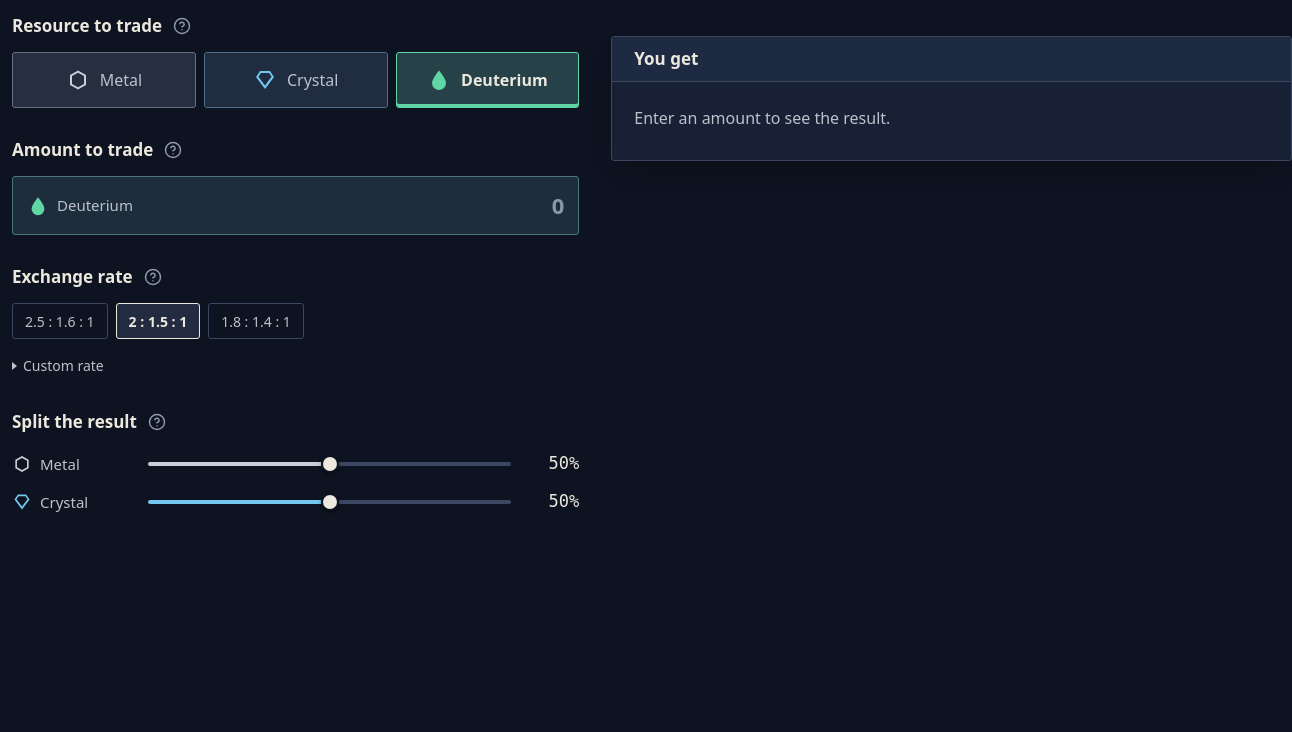
Test case: <Trader /> › clamps the split to 0-100 whatever the slider reports
The width and height of the screenshot is (1292, 732).
Set the slider named "Metal" to "150": (330, 464) [148,450,511,478]
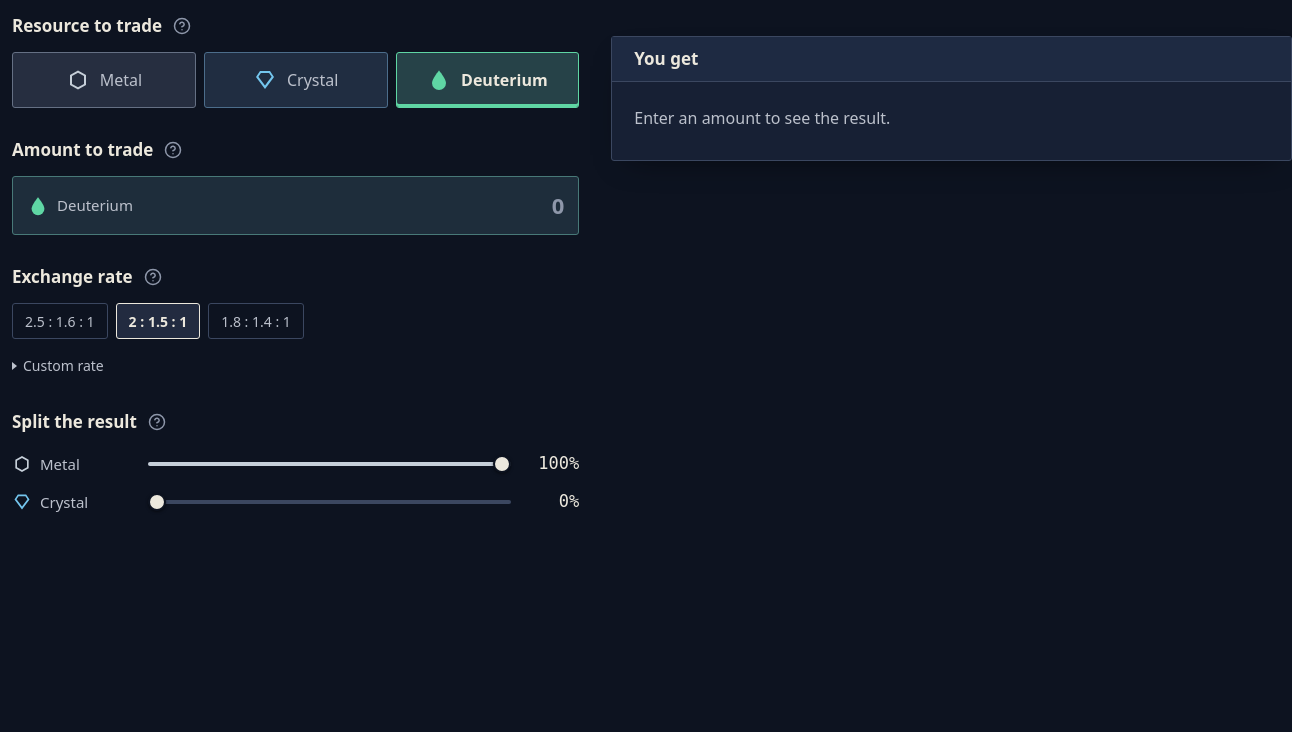
expect the slider named "Metal" holds "100": met, box [148,450,511,478]
expect the slider named "Crystal" holds "0": met, box [148,488,511,516]
